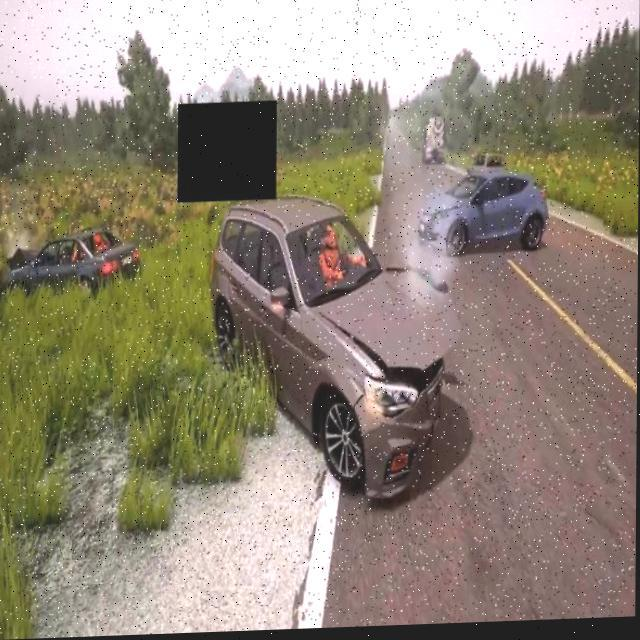multiple_accident: (145, 127, 482, 542)
normal: (426, 126, 584, 262)
